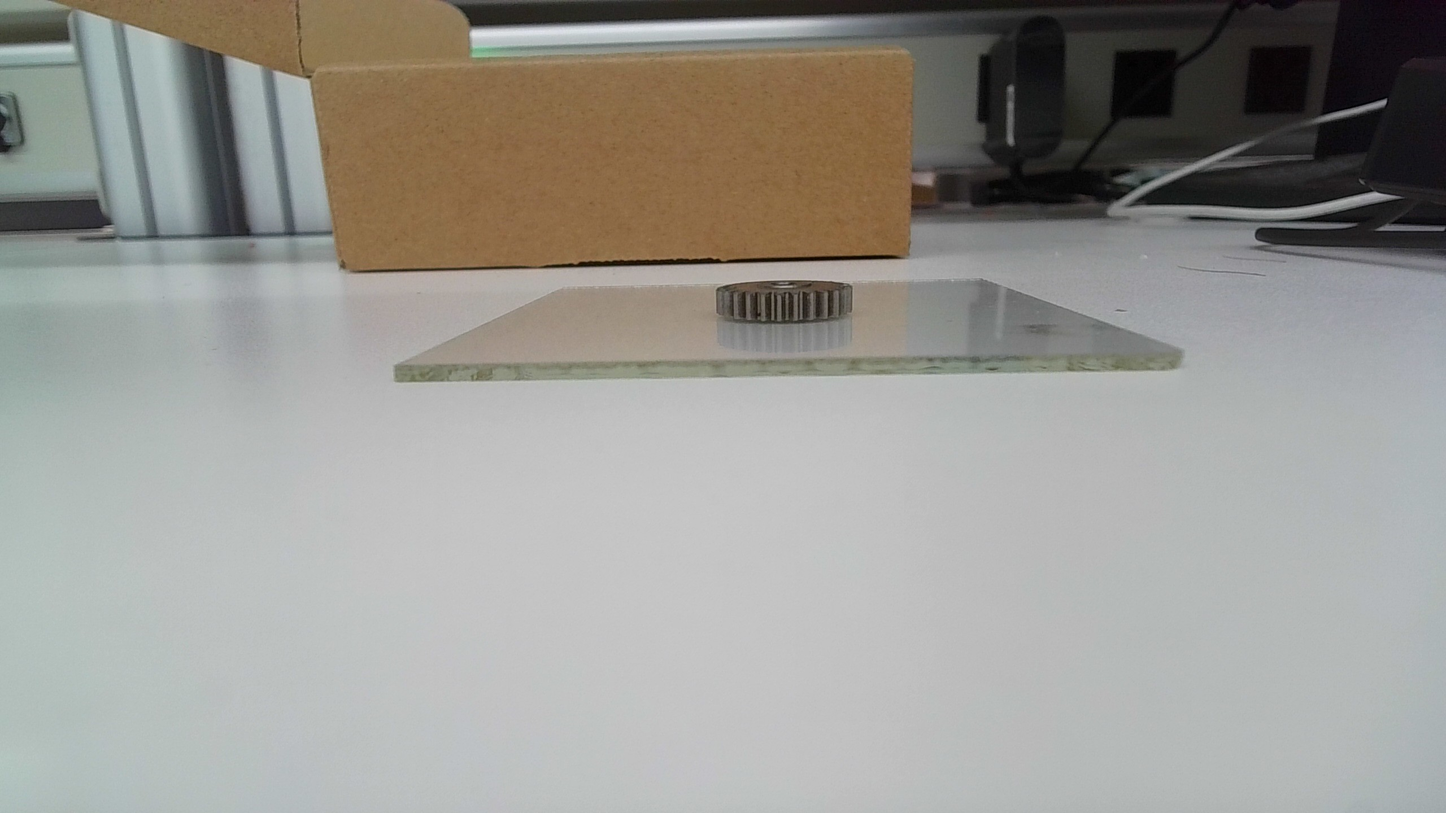gear: (714, 279, 857, 325)
